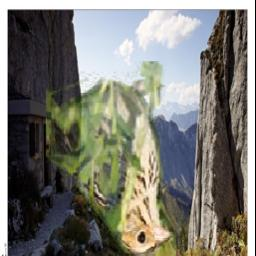Sparrow: (45, 61, 175, 256)
